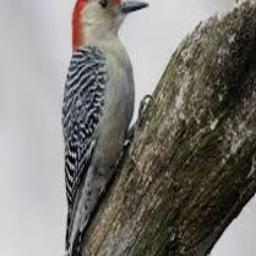Woodpecker: (45, 0, 148, 256)
